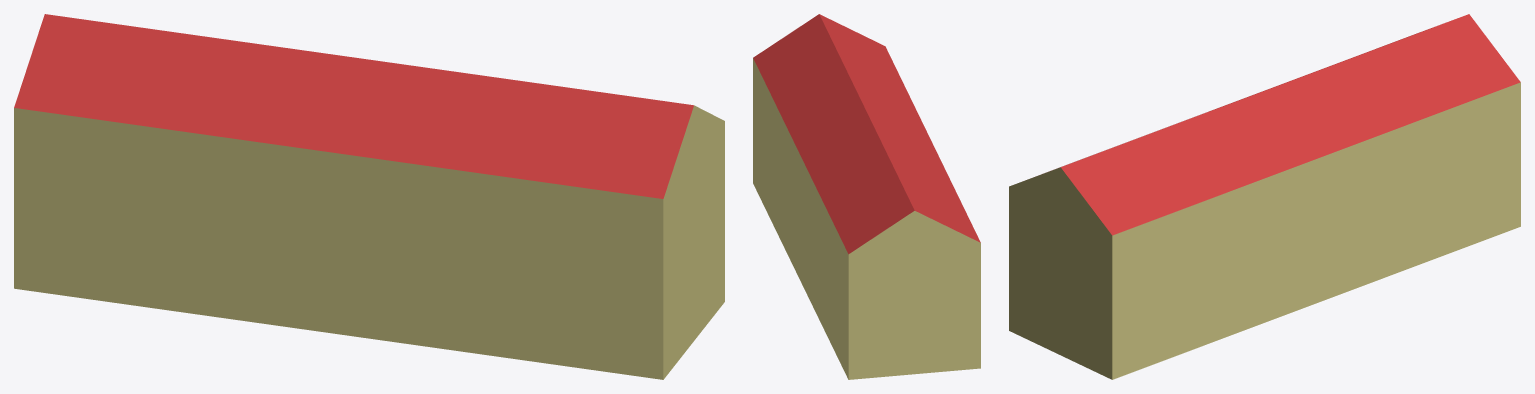
3 renders of one model, left to right at view 1: azimuth 30°, elevation 25°; view 2: azimuth 150°, elevation 25°; view 3: azimuth 270°, elevation 25°, orthographic. The views are drawn at different scales.
Visible parts, largest first — view 1: group_4, group_3; view 2: group_4, group_3; view 3: group_4, group_3.
Part boxes in pixels (left/top/right/bottom): group_4: left=14, top=105, right=724, bottom=379; group_3: left=14, top=14, right=693, bottom=198; group_4: left=753, top=58, right=980, bottom=379; group_3: left=753, top=14, right=980, bottom=254; group_4: left=1009, top=82, right=1520, bottom=379; group_3: left=1048, top=14, right=1520, bottom=235.
Size of the model in its own units: 22.19 by 23.7 by 9.61.
